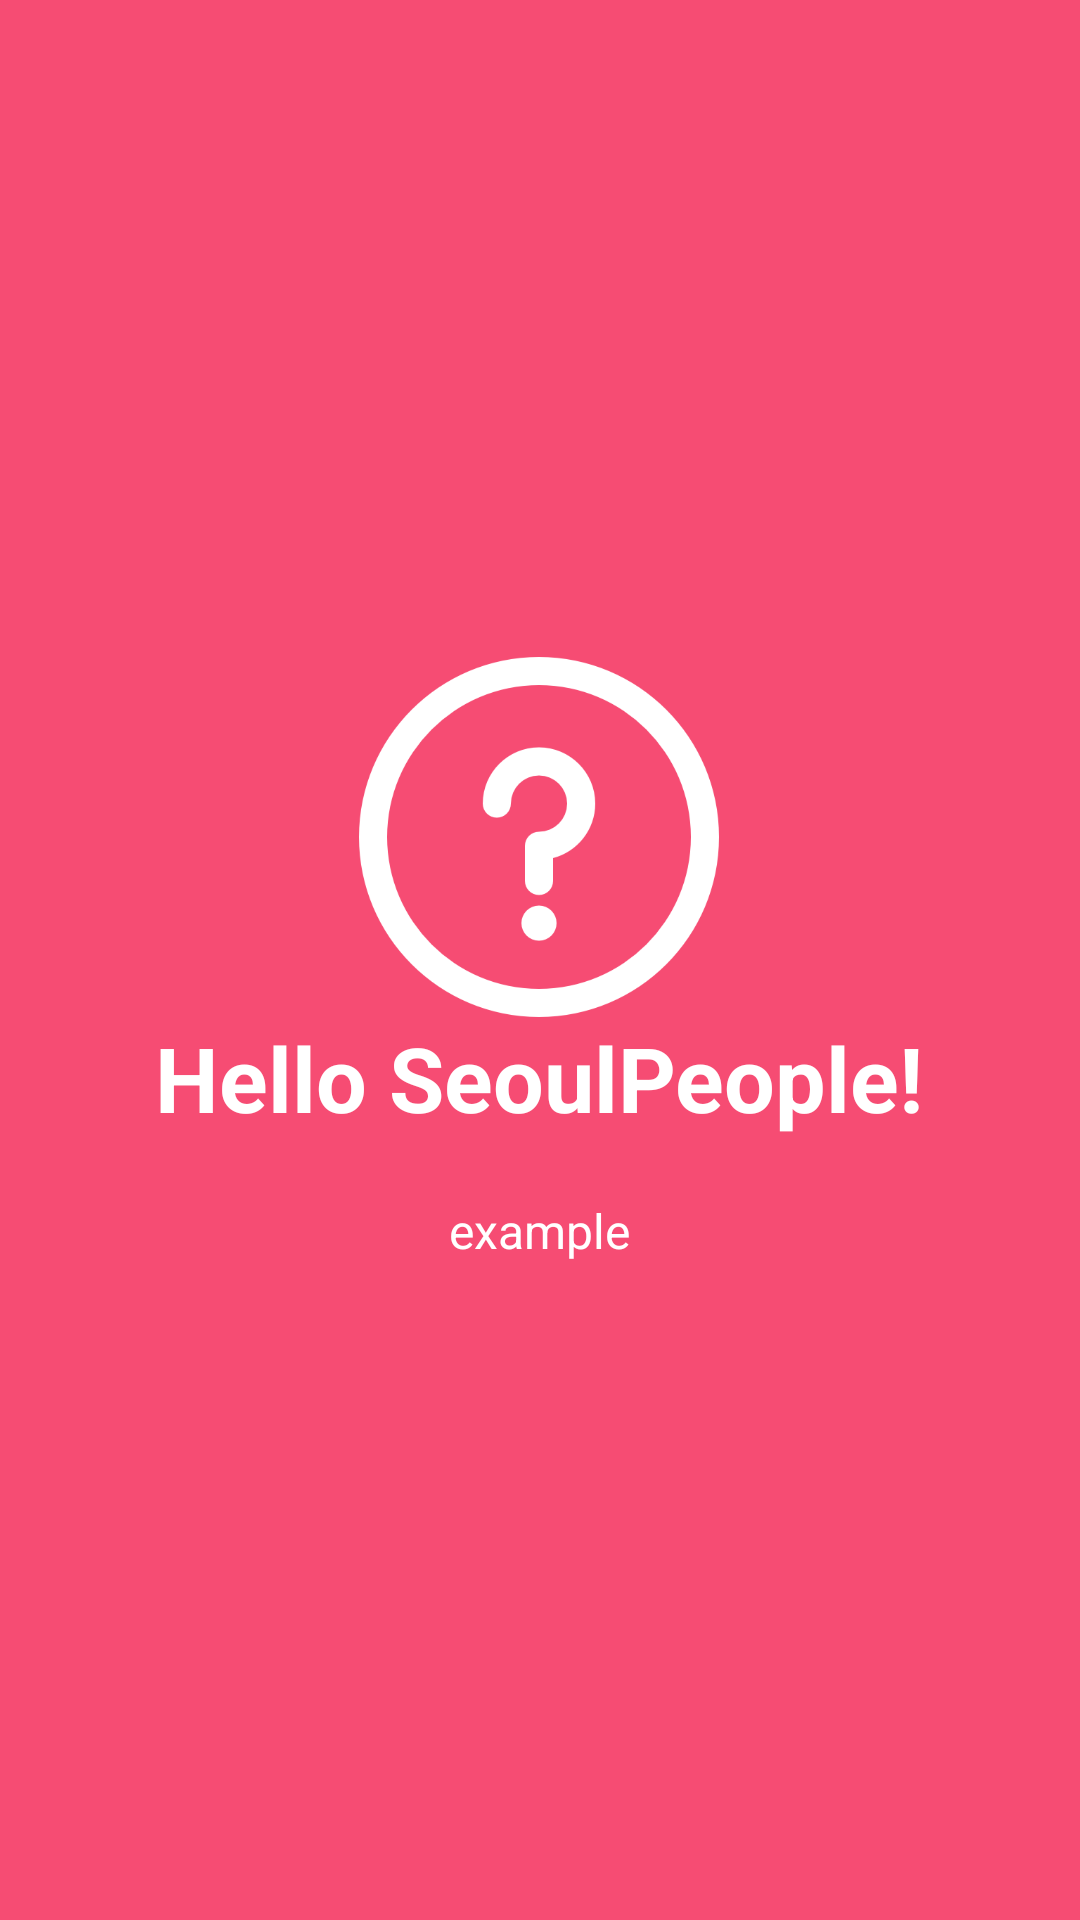

Where to tap for icons on this 1080×1920 app screen, as [x,y]:
question: [539,837]
